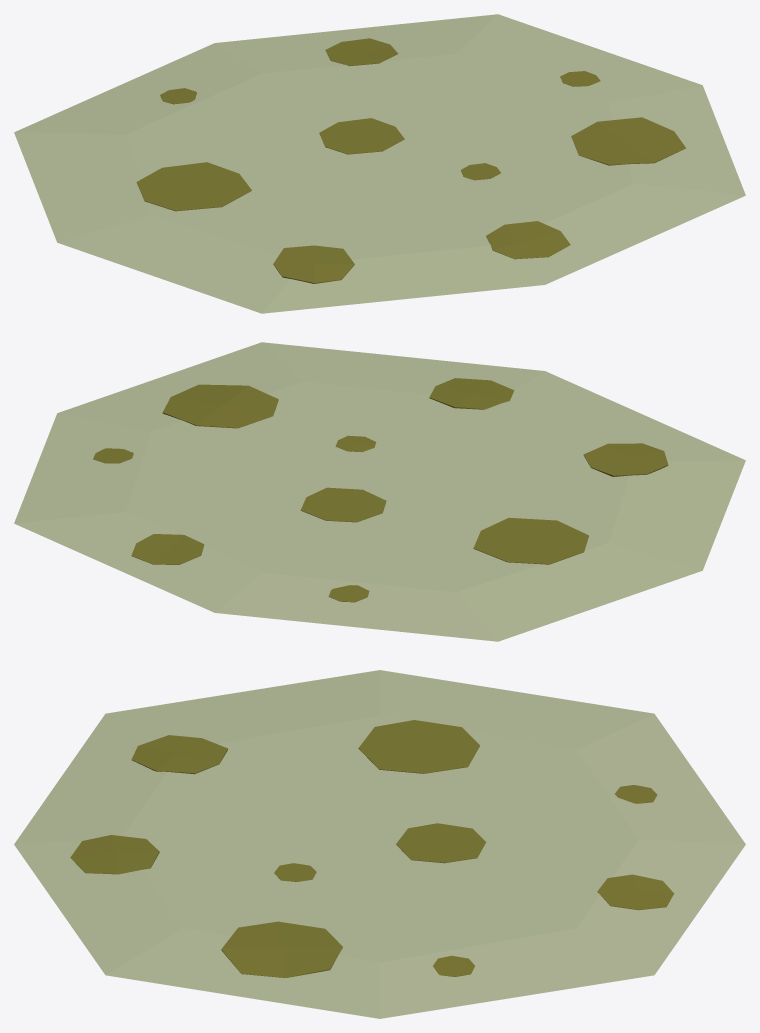
Rendered from Childrens_Room_Carpet.fbx.
The picture shows the model from 3 angles, top to bottom: view 1: azimuth 30°, elevation 25°; view 2: azimuth 150°, elevation 25°; view 3: azimuth 270°, elevation 25°; orthographic projection. The views are drawn at different scales.
Parts seen in each view (by area): view 1: Childrens_Room_Carpet; view 2: Childrens_Room_Carpet; view 3: Childrens_Room_Carpet.
Part boxes in pixels (x1=…): Childrens_Room_Carpet: x1=14, y1=14, x2=745, y2=313; Childrens_Room_Carpet: x1=14, y1=342, x2=745, y2=641; Childrens_Room_Carpet: x1=14, y1=670, x2=745, y2=1018.
Size of the model in its own units: 367 by 3.49 by 325.
